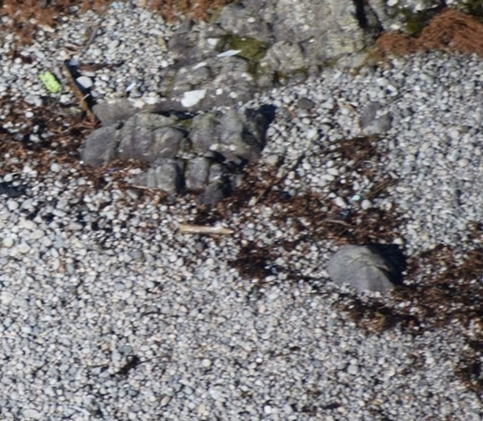straight_bar: (57, 61, 106, 128), (172, 213, 238, 245)
white_in_green: (22, 53, 78, 105)
